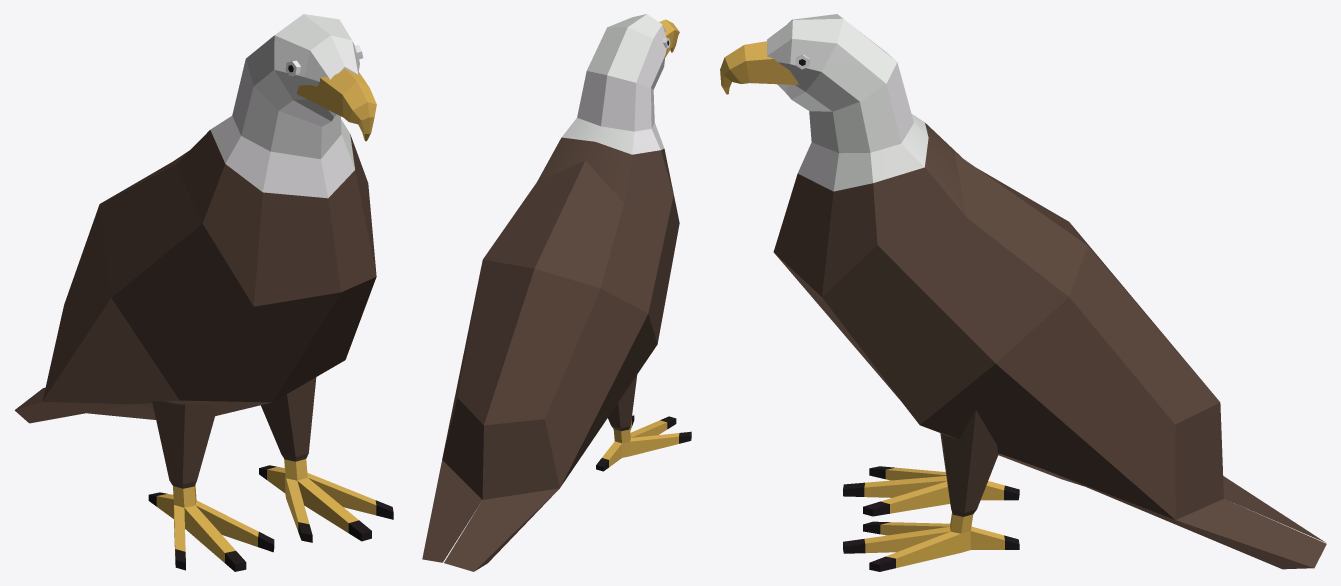
The model's file is d7CSLvsHULY.glb.
3 renders of one model, left to right at view 1: azimuth 30°, elevation 25°; view 2: azimuth 150°, elevation 25°; view 3: azimuth 270°, elevation 25°, orthographic. The views are drawn at different scales.
Parts seen in each view (by area): view 1: Geo_Eagle; view 2: Geo_Eagle; view 3: Geo_Eagle.
Part boxes in pixels (bbox=[...]): Geo_Eagle: bbox=[14, 14, 393, 571]; Geo_Eagle: bbox=[422, 14, 691, 571]; Geo_Eagle: bbox=[720, 14, 1326, 571].
Bounding box in the file's own units: 47.86 × 118 × 122.
Materials: 1 (1 with a texture image).
